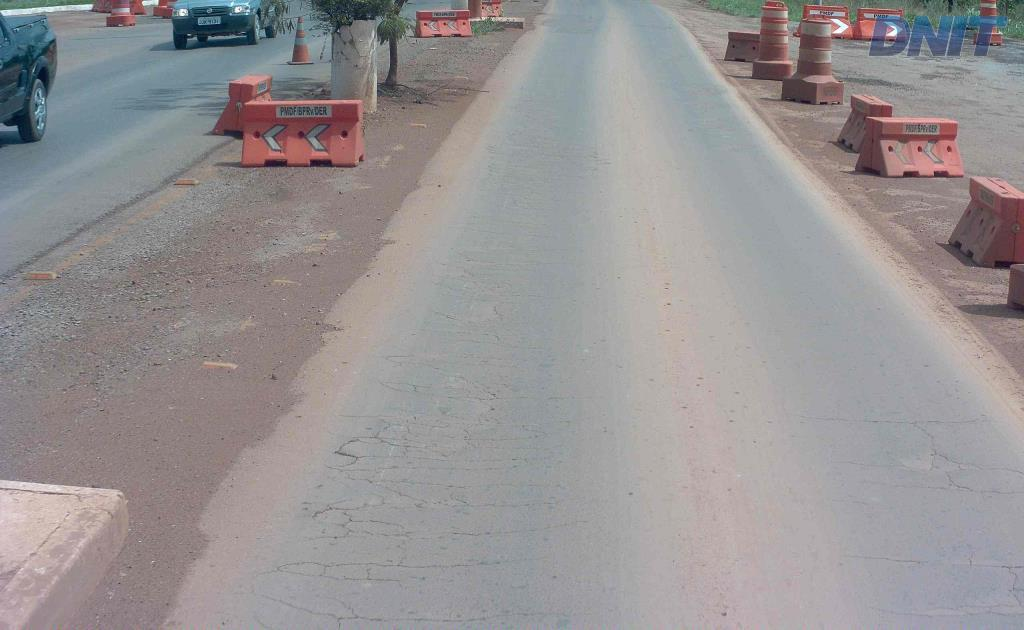crack: (307, 503, 414, 543), (364, 554, 518, 576), (333, 423, 400, 465)
